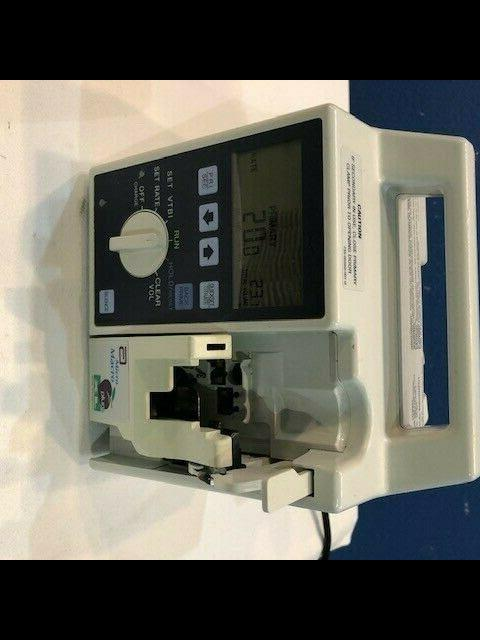plumxl1: (84, 103, 479, 529)
